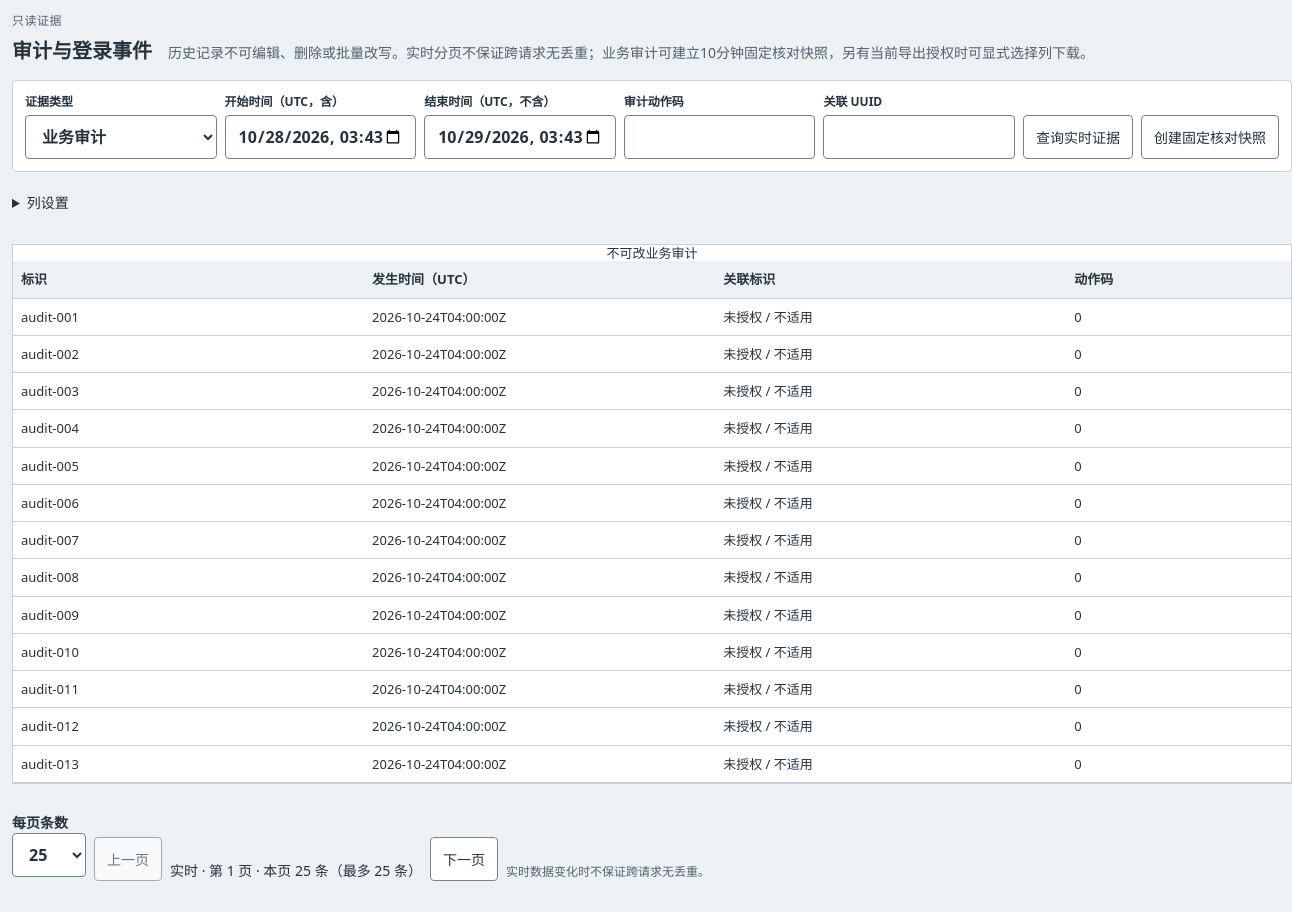
clears the previous page before a failed next-page read and retries the requested offset
The width and height of the screenshot is (1292, 912).
Click the button with test id "next-page" at point(464, 859), box [430,837,498,881]
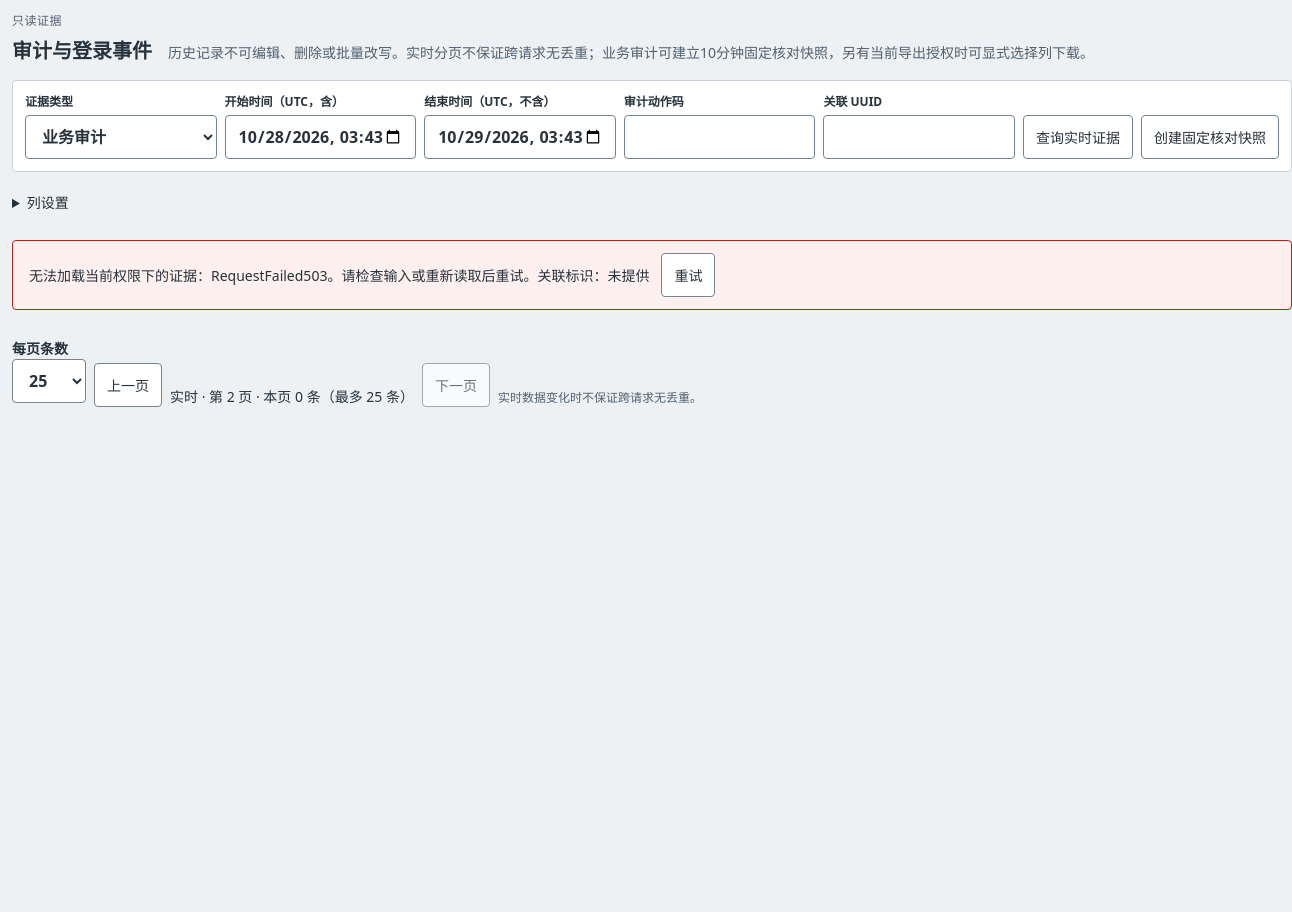
Expected: the text "audit-001" is gone
Expected: no rows are shown
Expected: the button with test id "next-page" is disabled, [422,363,490,407]
Click the button "重试" at point(688, 275), box [661,253,715,297]
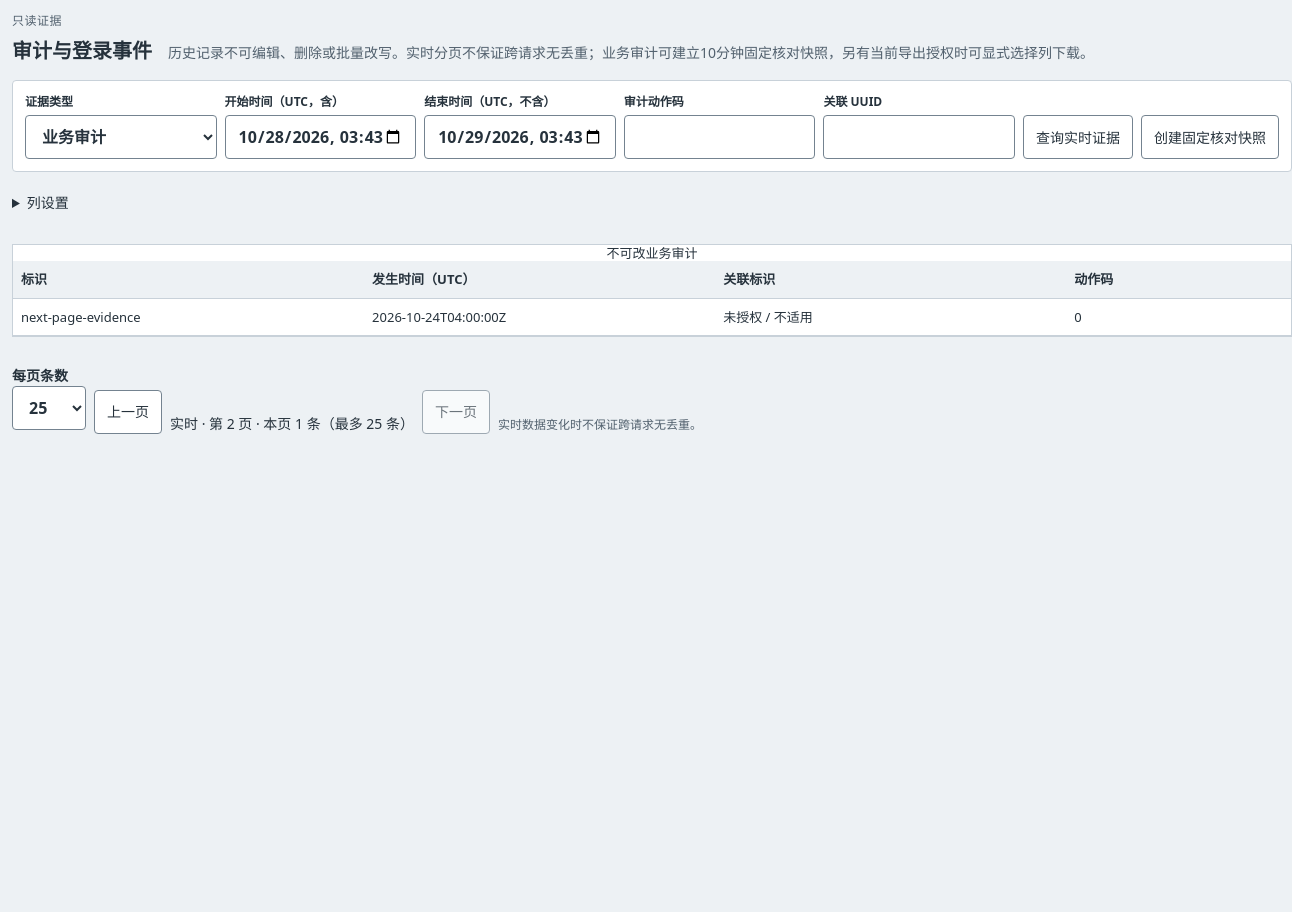
Expected: the text "next-page-evidence" is shown, [13,298,364,335]
